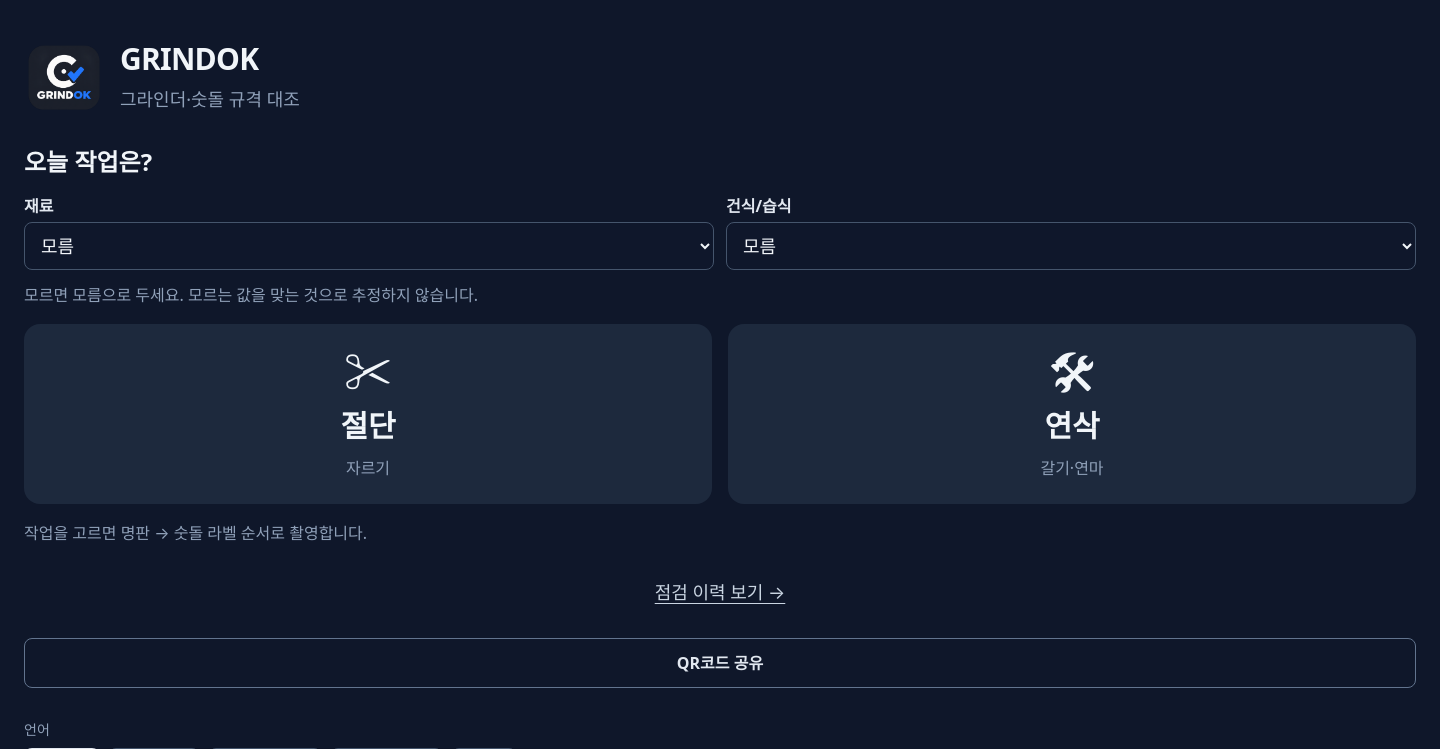
Test: 메인 화면 — 새 점검 준비 실패와 다시 시도 › 다시 시도가 성공하면 처음 고른 작업(연삭)으로 시작한다
Click the button "🛠 연삭 갈기·연마".
click(1072, 414)  # box [728,324,1416,504]
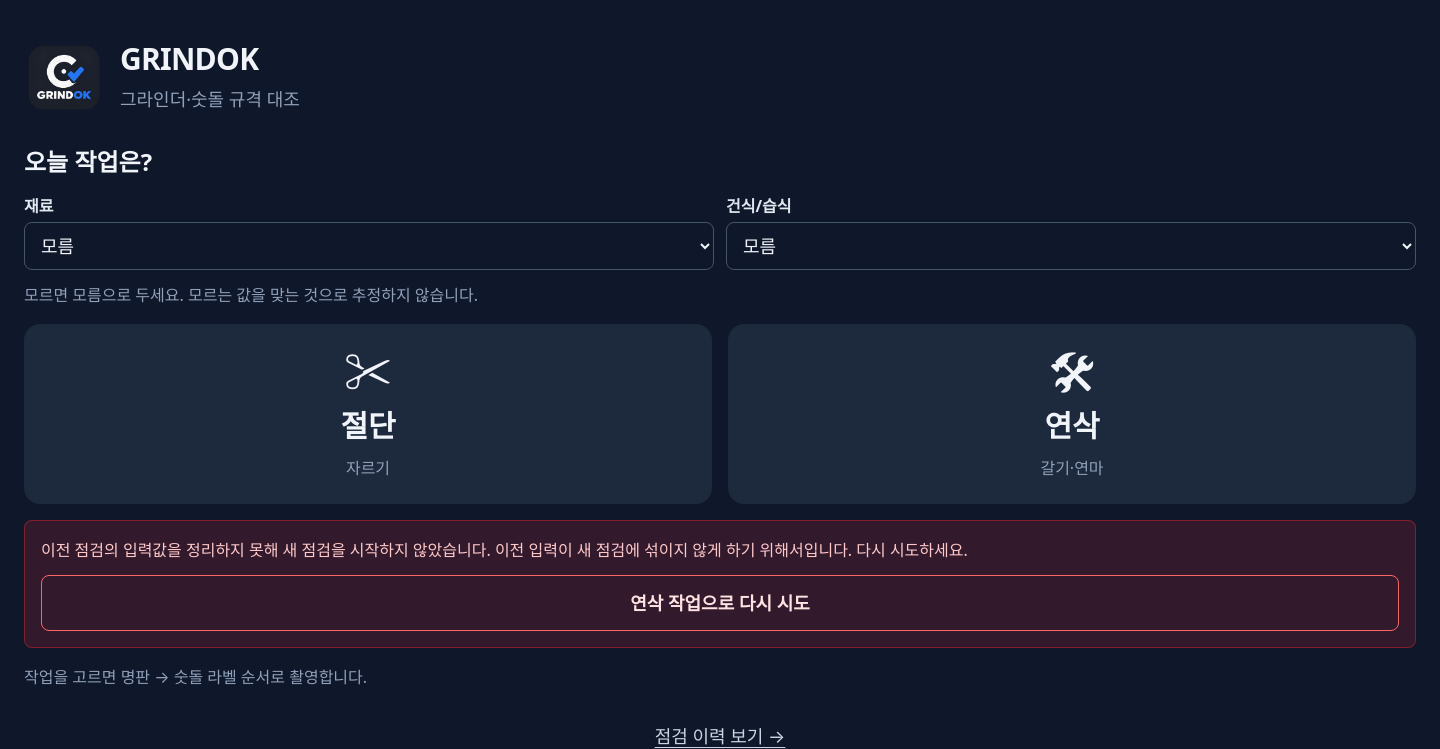
Click the button "연삭 작업으로 다시 시도".
click(720, 603)  # box [41,575,1399,631]
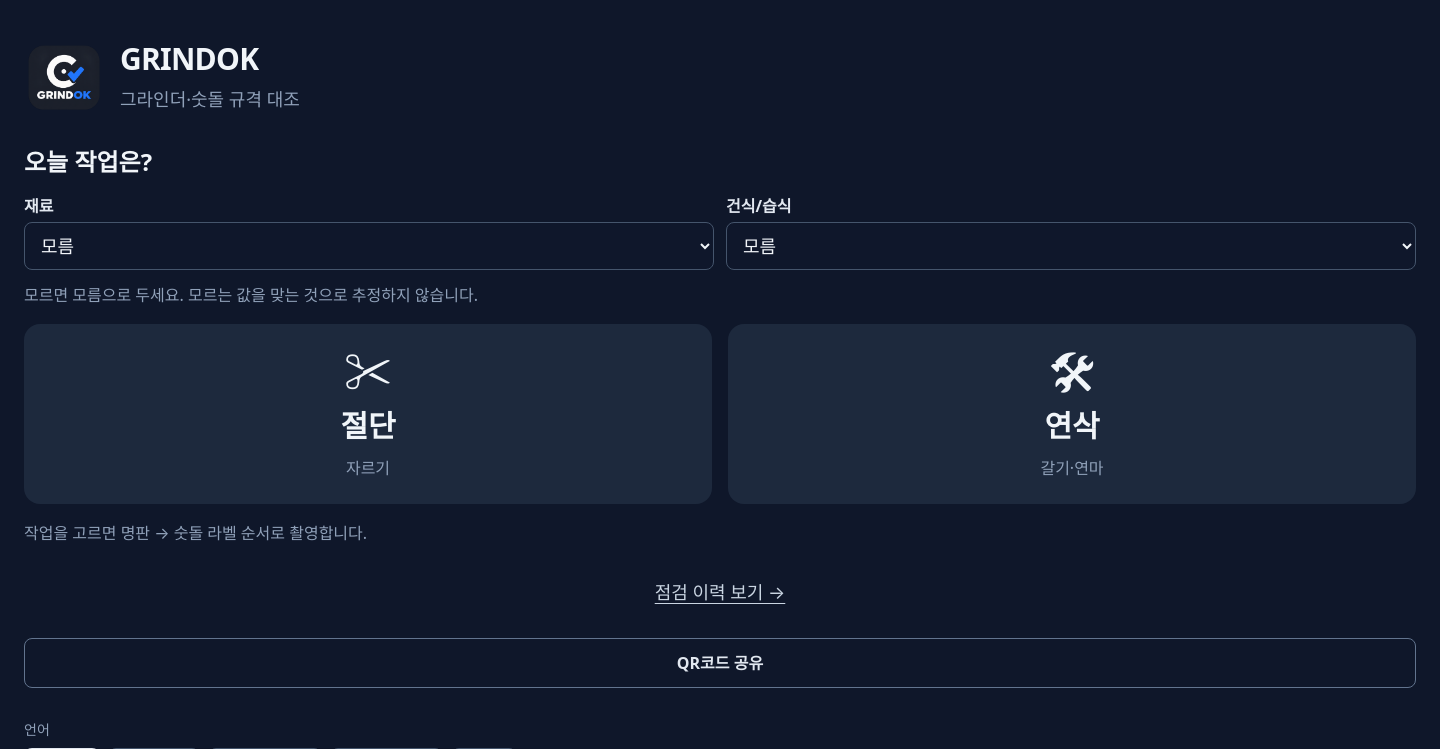
Now the message is gone
